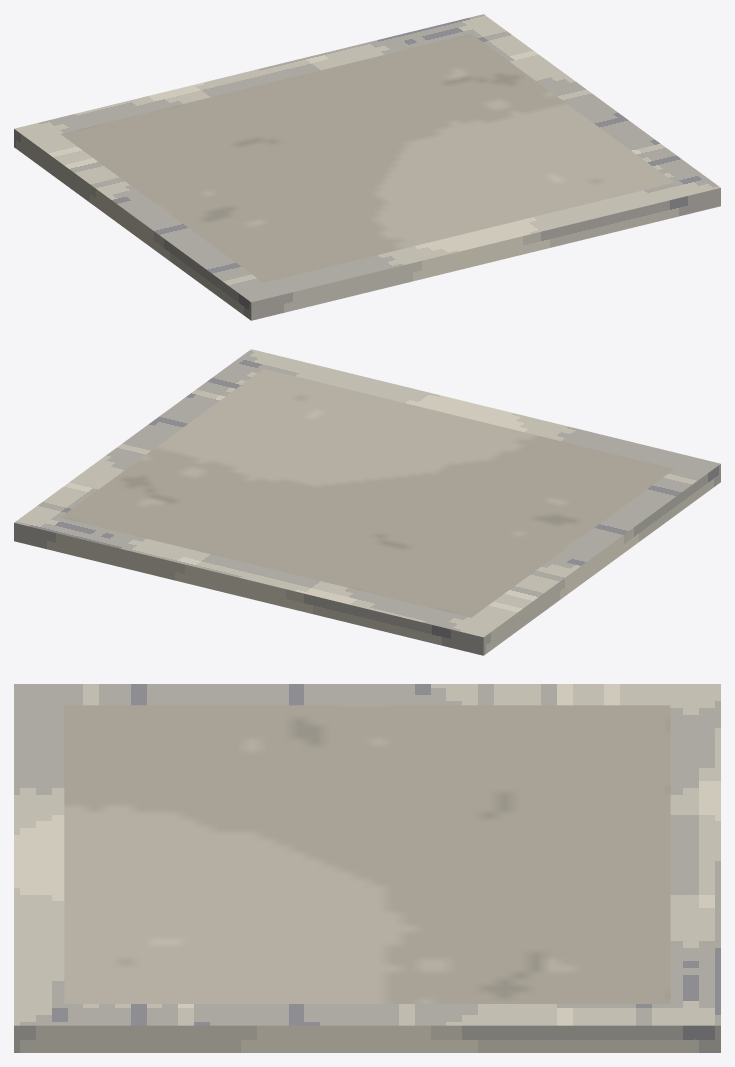
The model's file is RES_Int_AtticHatch.obj.
3 views of the same model, one above another, from view 1: azimuth 30°, elevation 25°; view 2: azimuth 150°, elevation 25°; view 3: azimuth 270°, elevation 25° (orthographic). The views are drawn at different scales.
Parts seen in each view (by area): view 1: INT_Hatch_M_Int_DrywallLight, RES_Int_AtticHatch_Mesh_M_Arch_TrimPainted; view 2: INT_Hatch_M_Int_DrywallLight, RES_Int_AtticHatch_Mesh_M_Arch_TrimPainted; view 3: INT_Hatch_M_Int_DrywallLight, RES_Int_AtticHatch_Mesh_M_Arch_TrimPainted.
Part boxes in pixels (bbox=[...]): INT_Hatch_M_Int_DrywallLight: bbox=[61, 34, 674, 282]; RES_Int_AtticHatch_Mesh_M_Arch_TrimPainted: bbox=[14, 14, 720, 320]; INT_Hatch_M_Int_DrywallLight: bbox=[60, 369, 673, 617]; RES_Int_AtticHatch_Mesh_M_Arch_TrimPainted: bbox=[14, 349, 720, 655]; INT_Hatch_M_Int_DrywallLight: bbox=[64, 705, 670, 1003]; RES_Int_AtticHatch_Mesh_M_Arch_TrimPainted: bbox=[14, 684, 720, 1052].
Size of the model in its own units: 0.8 by 0.06 by 0.7.
3 materials, 3 textured.
